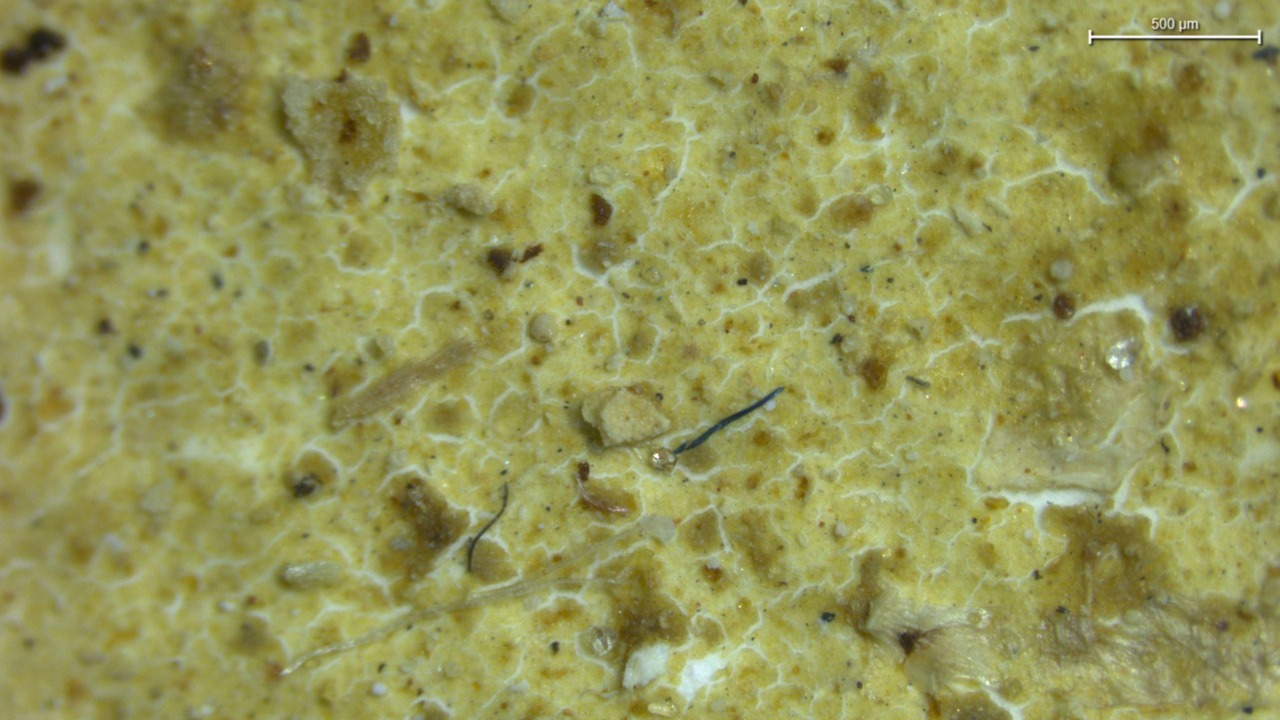microplastic_fragment: (281, 77, 400, 191), (581, 384, 671, 446)
